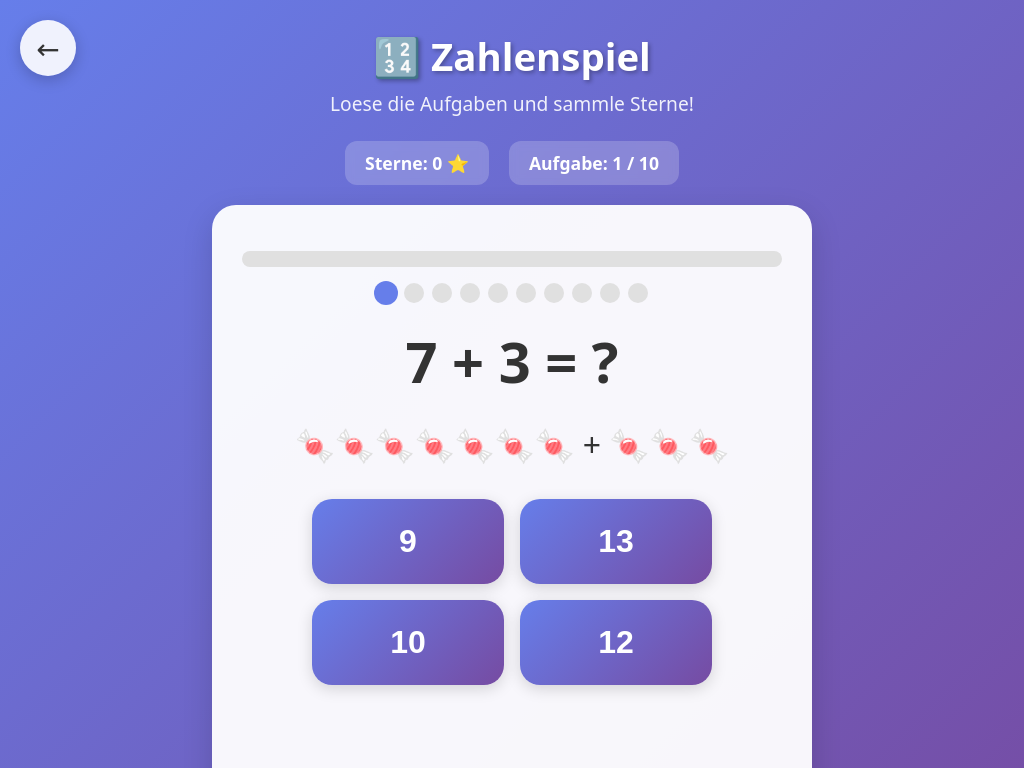
it: Zahlenspiel component › disables buttons after choosing an answer
The image size is (1024, 768).
What coordinates should you click on to do the following:
click the button with class "answer-btn" showing "9"
I would click on:
 (408, 542)
Its box is [312,499,504,584].
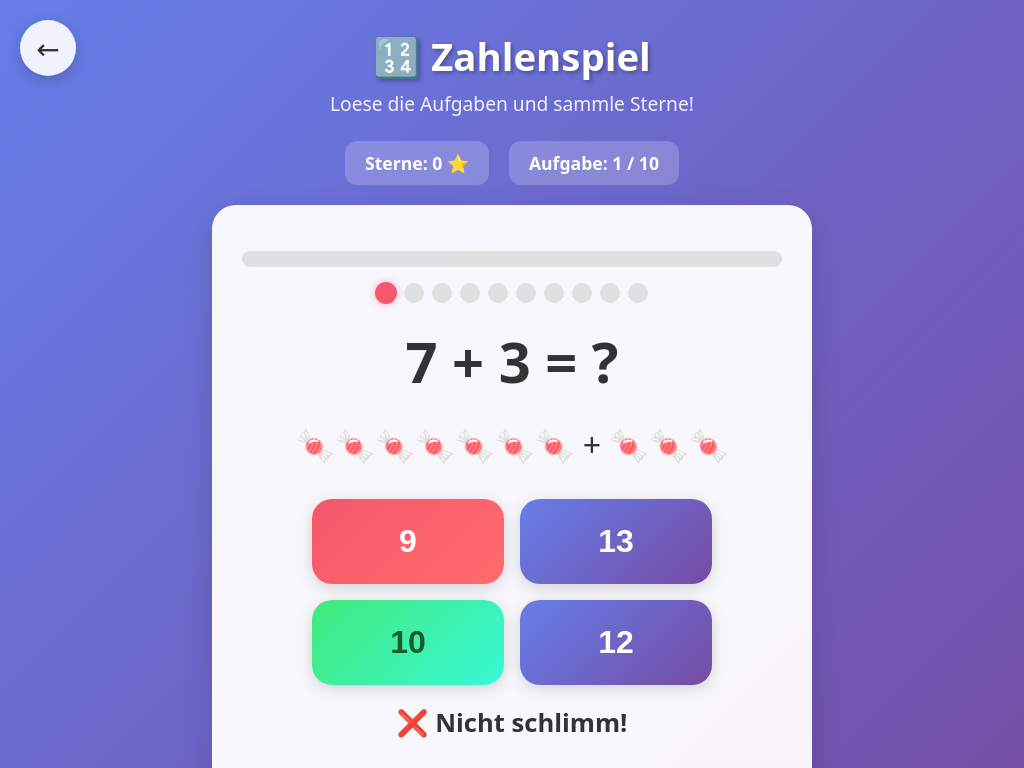
Expected: the button with class "answer-btn" showing "13" is disabled, [520,499,712,584]
Expected: the button with class "answer-btn" showing "9" is disabled, [312,499,504,584]
Expected: the button with class "answer-btn" showing "10" is disabled, [312,600,504,685]
